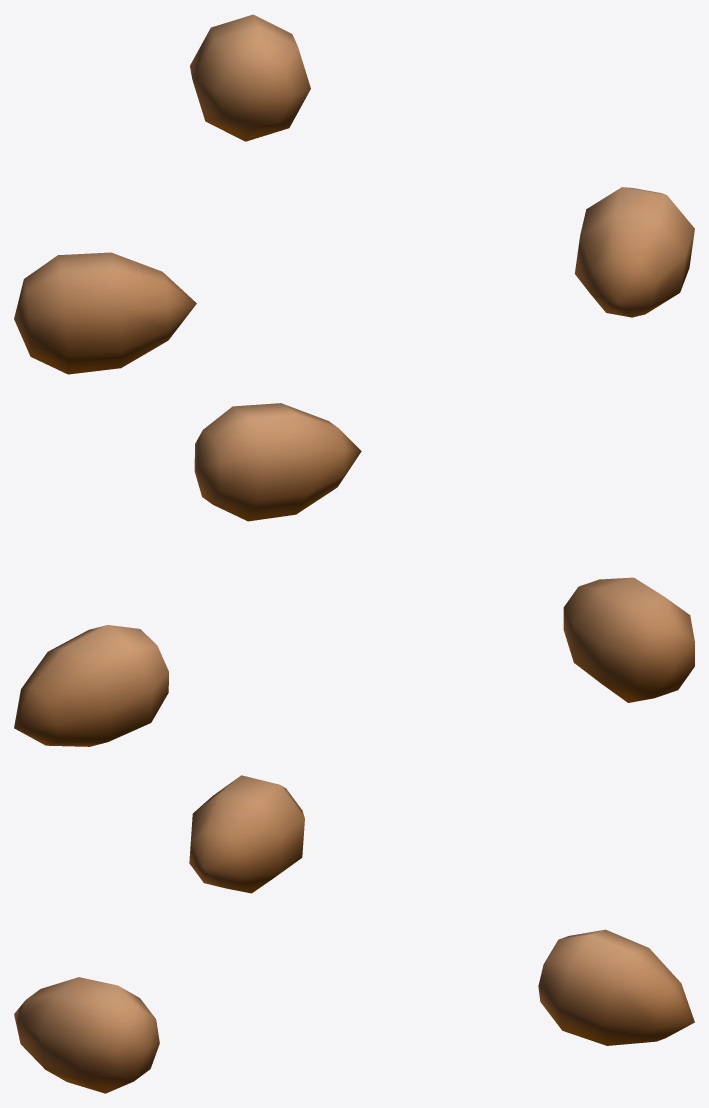
The model's file is strawberry_seed.glb.
3 views of the same model, one above another, from view 1: azimuth 30°, elevation 25°; view 2: azimuth 150°, elevation 25°; view 3: azimuth 270°, elevation 25° (orthographic). The views are drawn at different scales.
Parts seen in each view (by area): view 1: SM_Strawberry_Seed2; view 2: SM_Strawberry_Seed2; view 3: SM_Strawberry_Seed2.
Boxes of the visible parts, x1,y1,x2,y2 form: SM_Strawberry_Seed2: [14, 14, 694, 374]; SM_Strawberry_Seed2: [14, 403, 694, 746]; SM_Strawberry_Seed2: [14, 775, 694, 1093].
Bounding box in the file's own units: 0.2148 × 0.0411 × 0.2347.
1 material, 1 textured.
